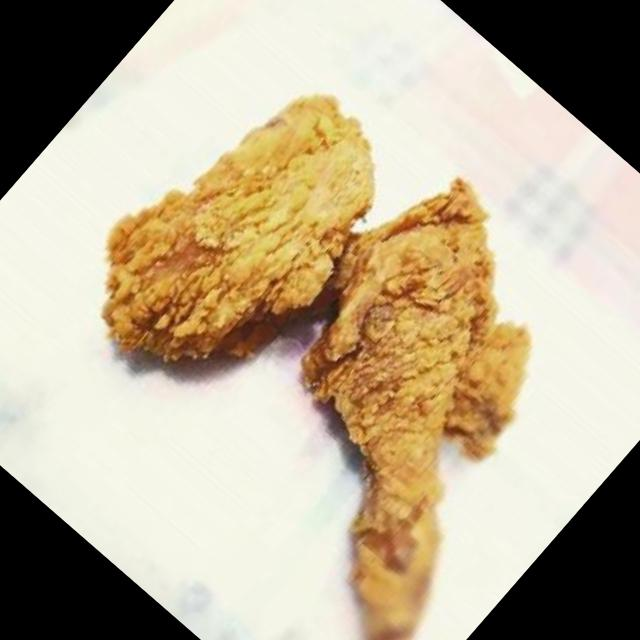Fried Chicken: (299, 177, 529, 640), (99, 94, 375, 365)
